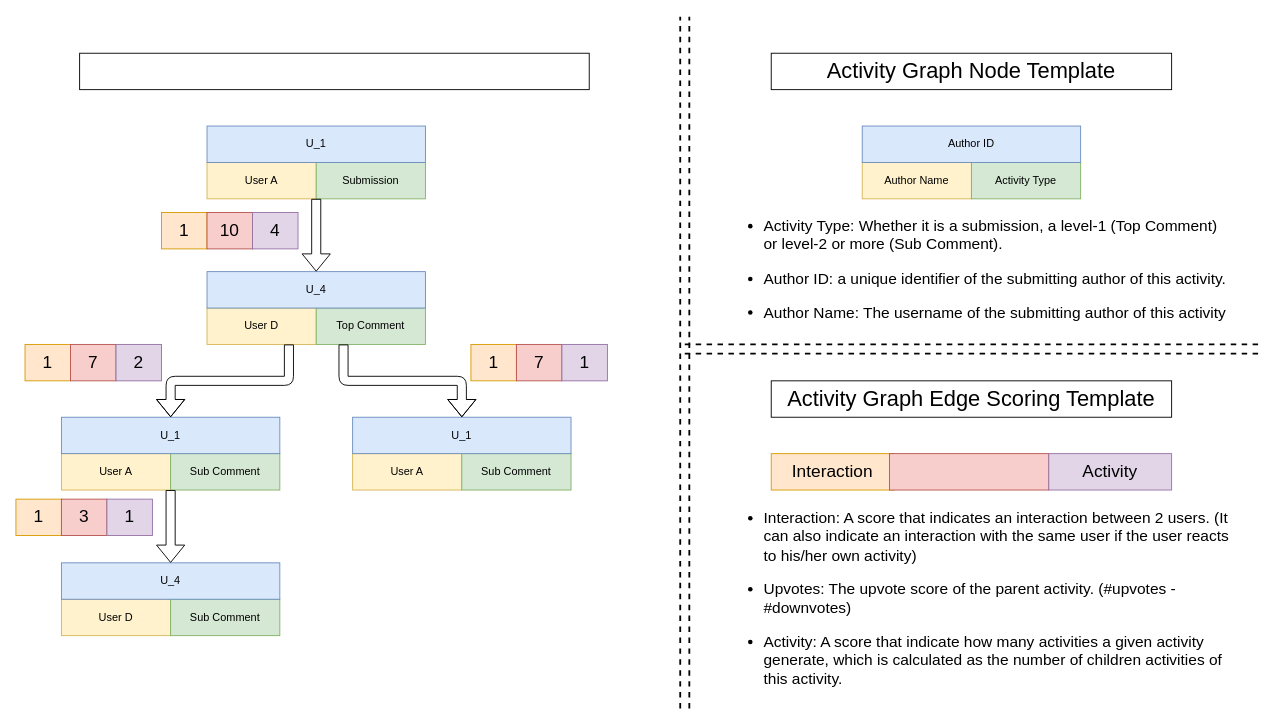
Image size: 1276x725. Some labels were removed from this diagram. Here are the shapes that lost their labels. From the top down, the box of each, then its label:
(79, 52, 589, 90): Activity Graph Example
(889, 453, 1049, 490): Upvotes
